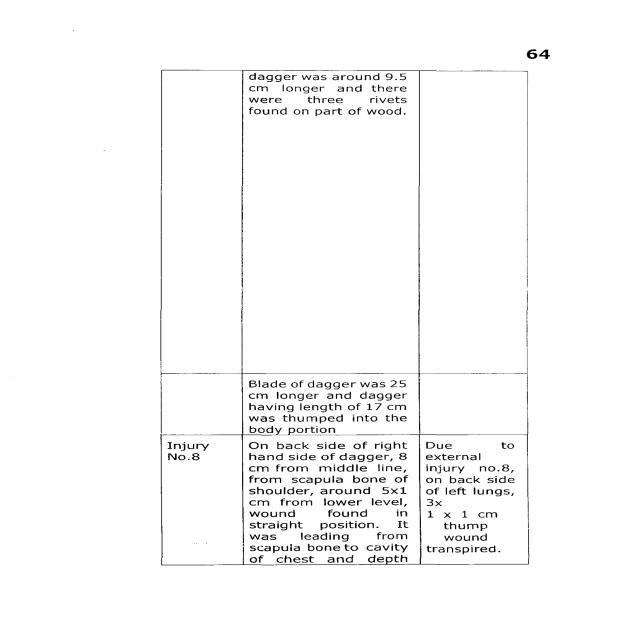page-number: (436, 1, 640, 64)
